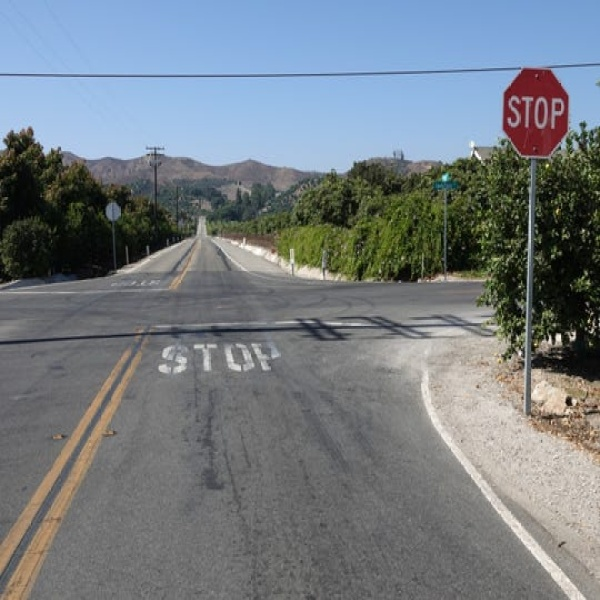stop: (502, 65, 569, 152)
